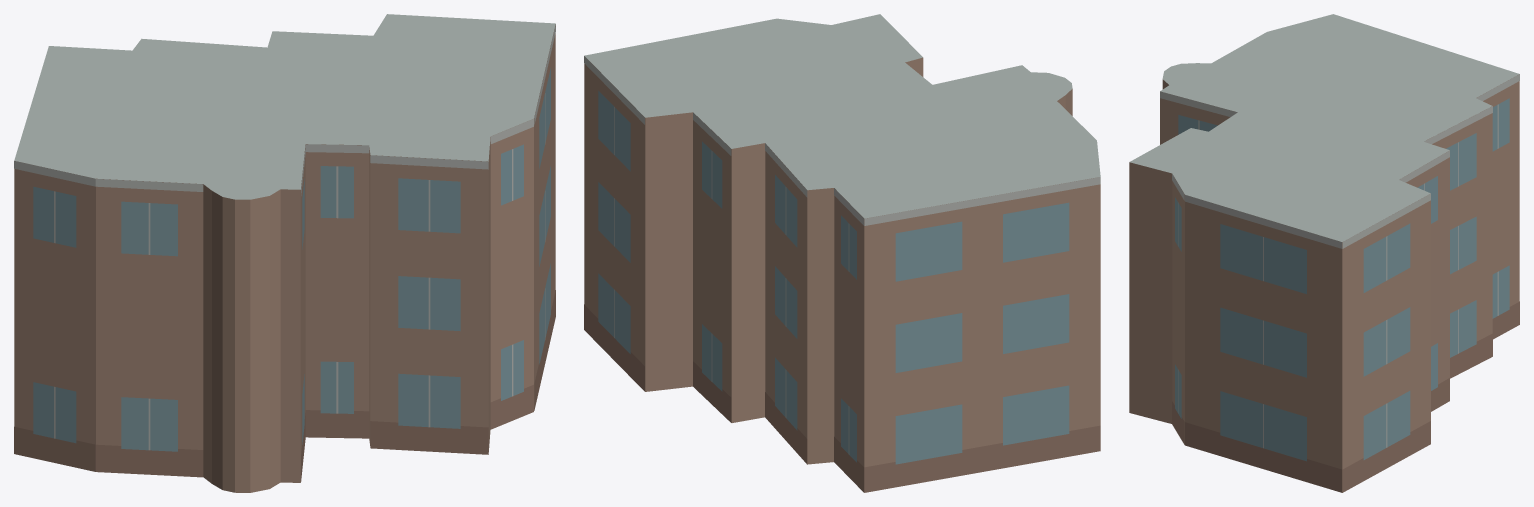
File: survey-upis-32927112.glb
3 views of the same model, side by side, from view 1: azimuth 30°, elevation 25°; view 2: azimuth 150°, elevation 25°; view 3: azimuth 270°, elevation 25° (orthographic). The views are drawn at different scales.
Parts seen in each view (by area): view 1: survey-upis-32927112.tmp; view 2: survey-upis-32927112.tmp; view 3: survey-upis-32927112.tmp.
Part boxes in pixels (bbox=[...]): survey-upis-32927112.tmp: bbox=[14, 14, 555, 492]; survey-upis-32927112.tmp: bbox=[584, 14, 1100, 492]; survey-upis-32927112.tmp: bbox=[1129, 14, 1519, 492].
Size of the model in its own units: 17.38 by 8.9 by 12.58.
